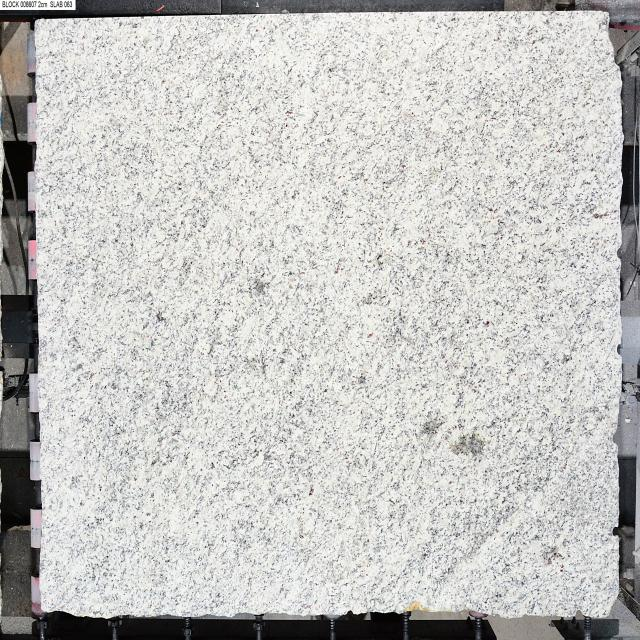chapa: (35, 12, 622, 618)
furo: (574, 3, 640, 83)
veio: (609, 522, 621, 540)
